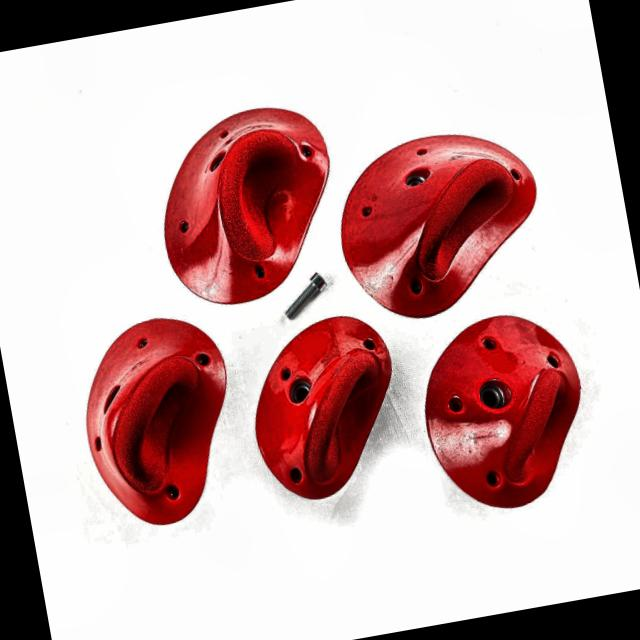Hold: (140, 95, 352, 314), (336, 120, 553, 328), (67, 308, 258, 540), (412, 300, 597, 522), (238, 308, 410, 504)
